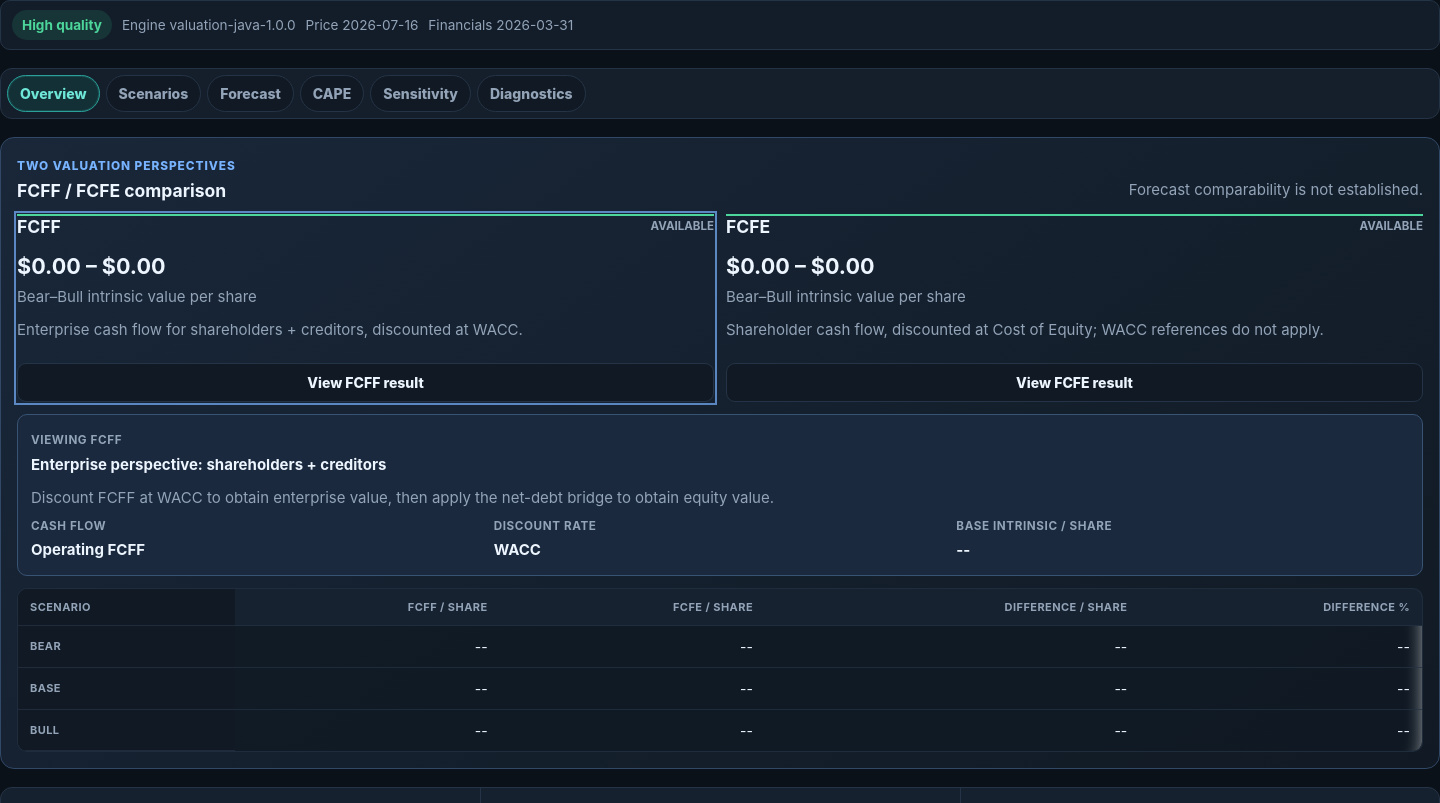
Test: ValuationWorkspace › shows the selected model reverse DCF and sensitivity matrix
The width and height of the screenshot is (1440, 803).
Click the button "Sensitivity": {"x": 421, "y": 94} [370,75,471,112]
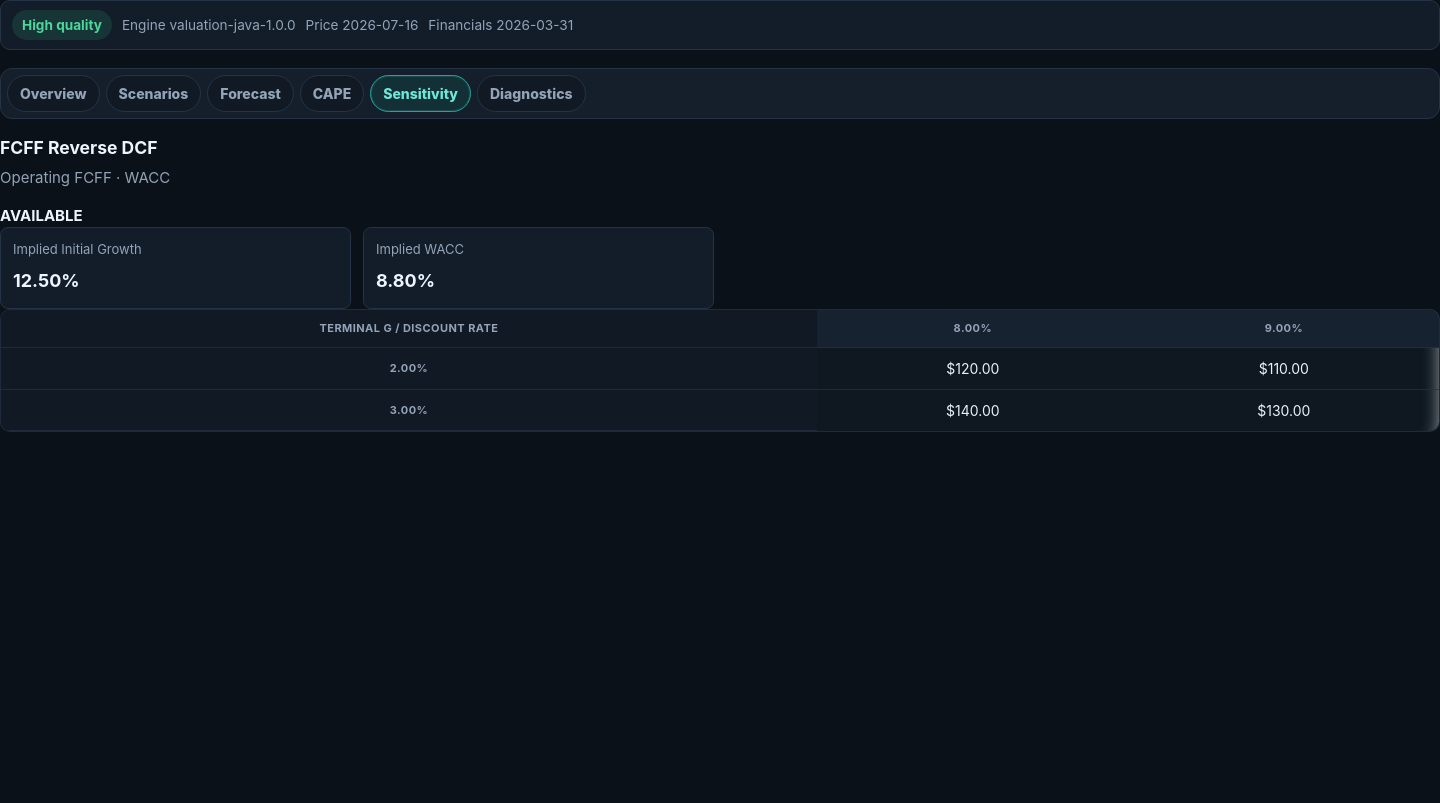
Expected: the heading "FCFF Reverse DCF" is shown, [0,137,158,158]
Expected: the text "Implied WACC" is shown, [376,241,464,257]
Expected: the text "12.50%" is shown, [13,270,80,291]
Click the button "Overview": {"x": 53, "y": 94} [7,75,100,112]
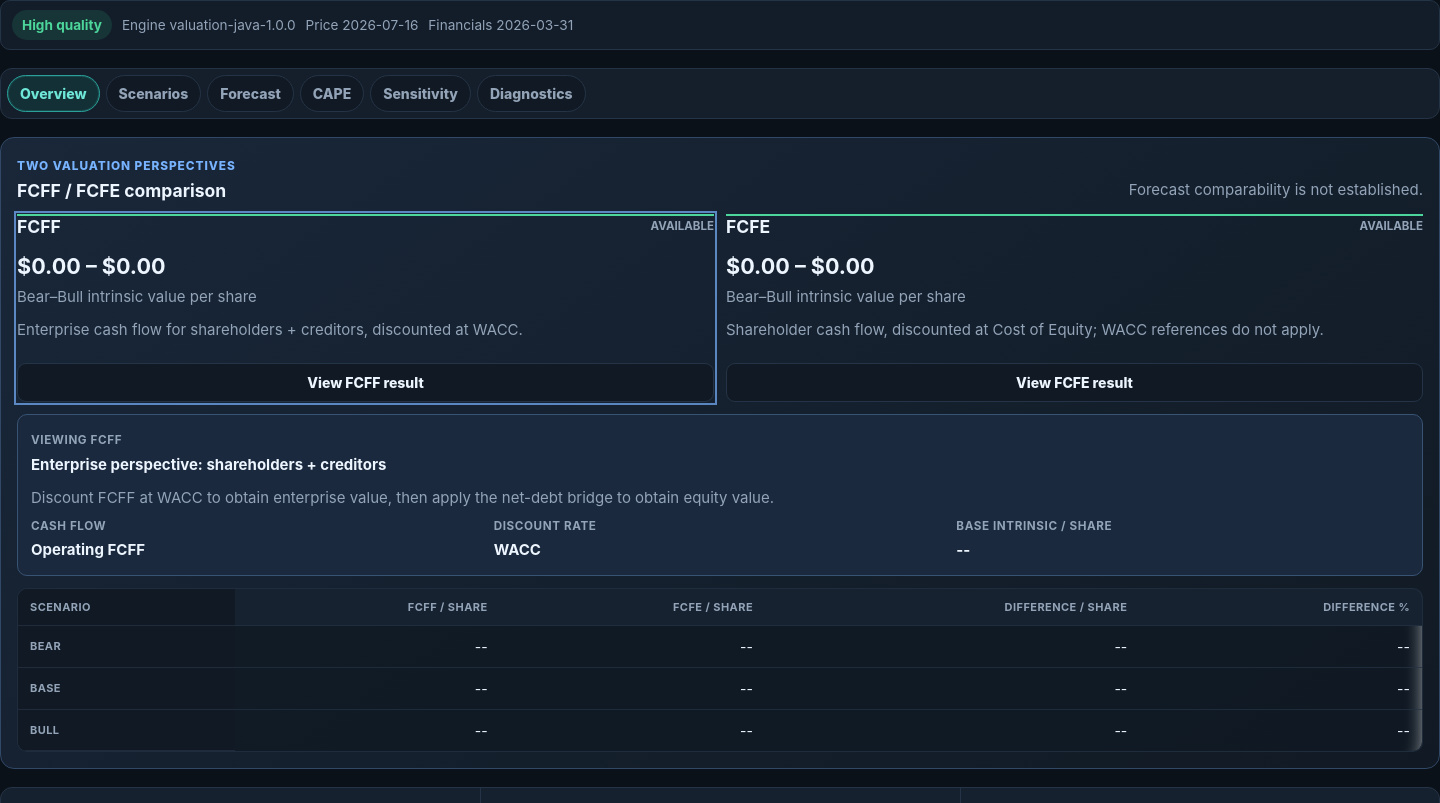
Click the button "View FCFE result": {"x": 1074, "y": 383} [726,363,1423,402]
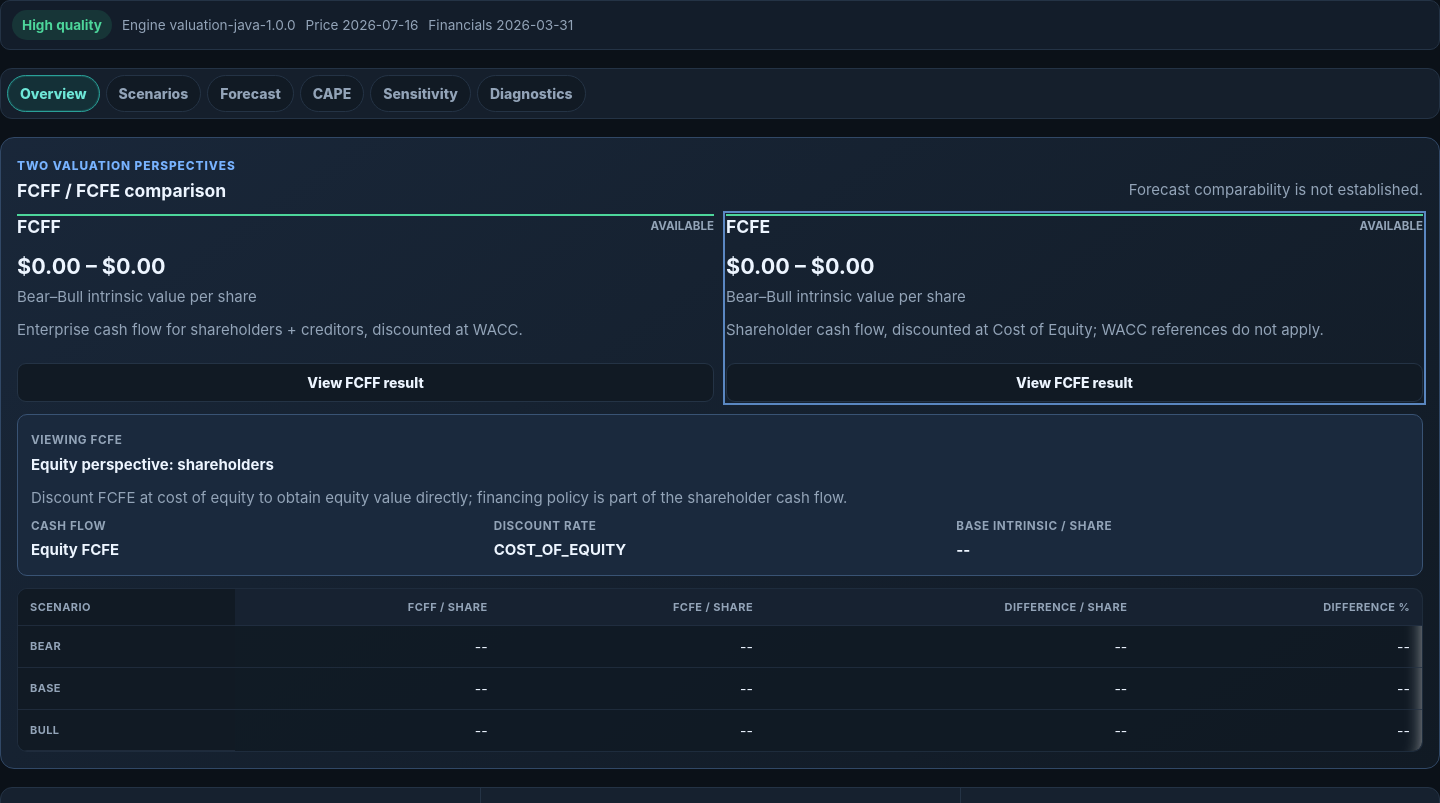
Click the button "Sensitivity": {"x": 421, "y": 94} [370,75,471,112]
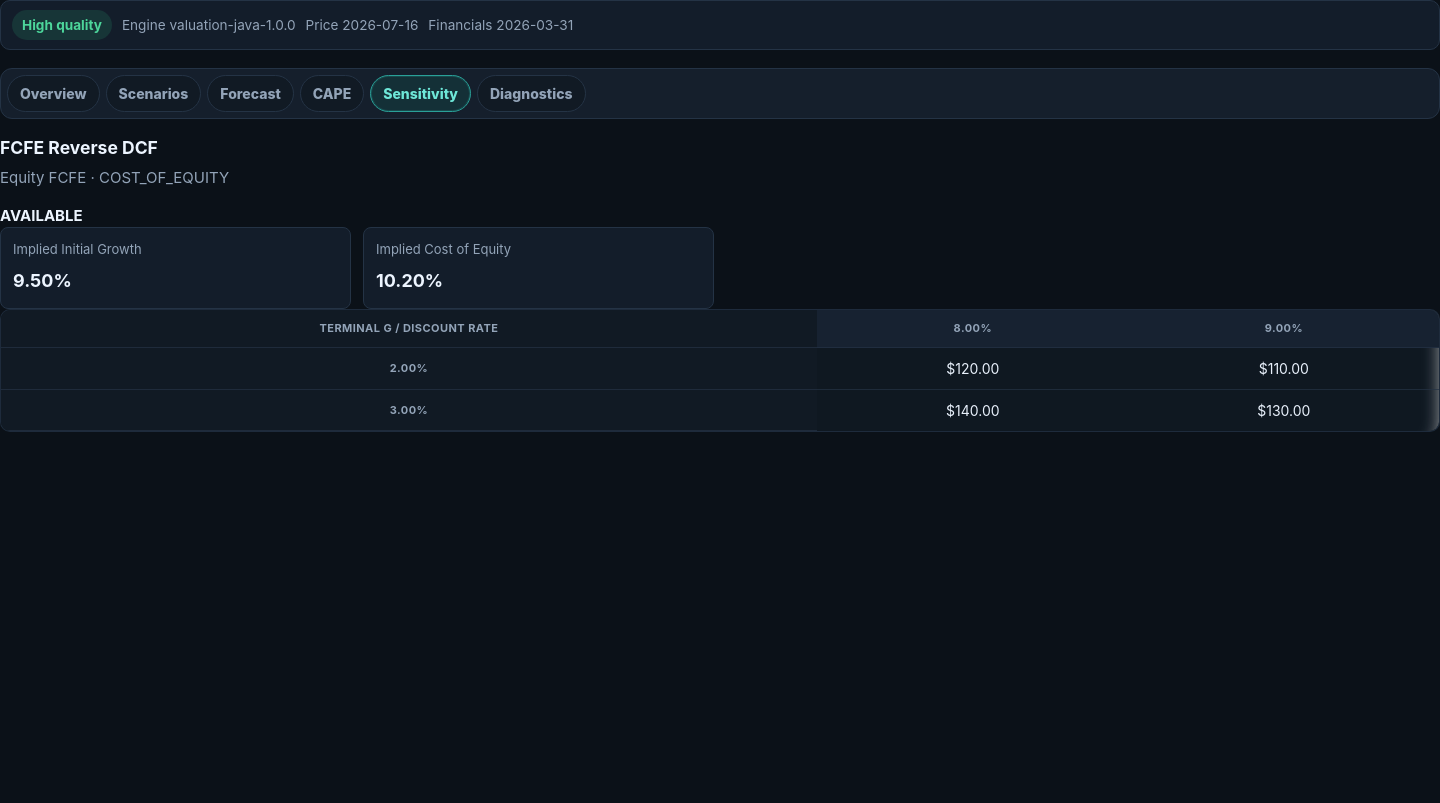
Expected: the heading "FCFE Reverse DCF" is shown, [0,137,158,158]
Expected: the text "Implied Cost of Equity" is shown, [376,241,511,257]
Expected: the text "9.50%" is shown, [13,270,72,291]
